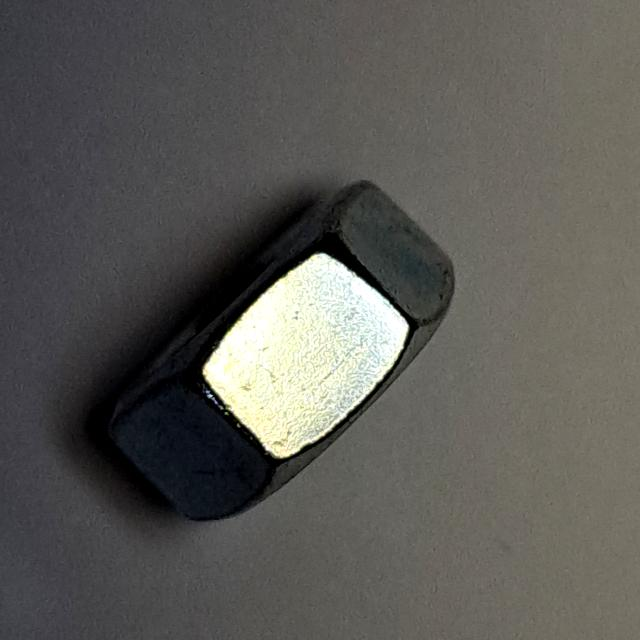Side_Excellent: (70, 158, 468, 542)
